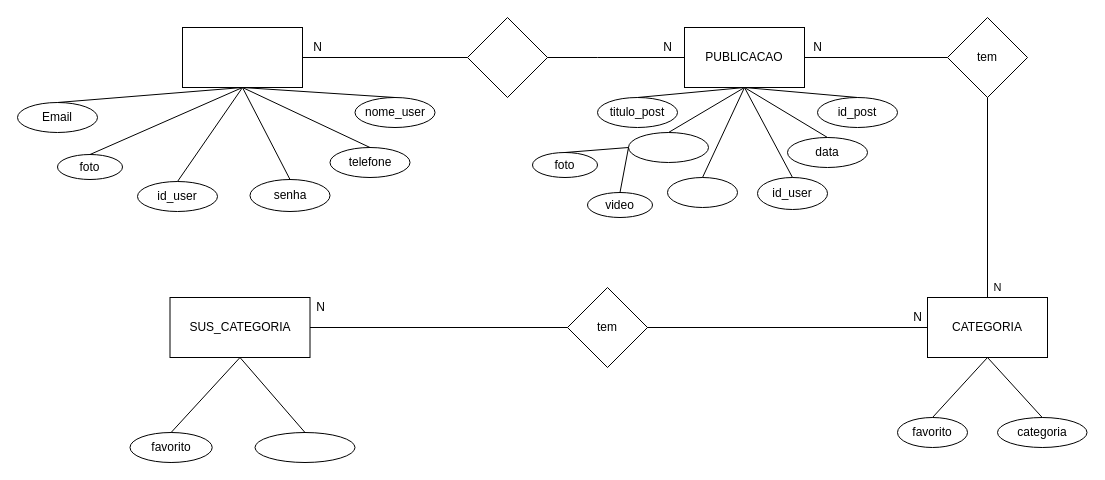
Image size: 1105x480. Some labels were removed from this diagram. The shapes that lost their labels are listed below. From the top down, each one's centre as x and y in pixels, then its label:
point (242, 57): USUARIO
point (507, 57): faz
point (668, 147): coment
point (702, 192): curtida
point (304, 447): sub_categoria
